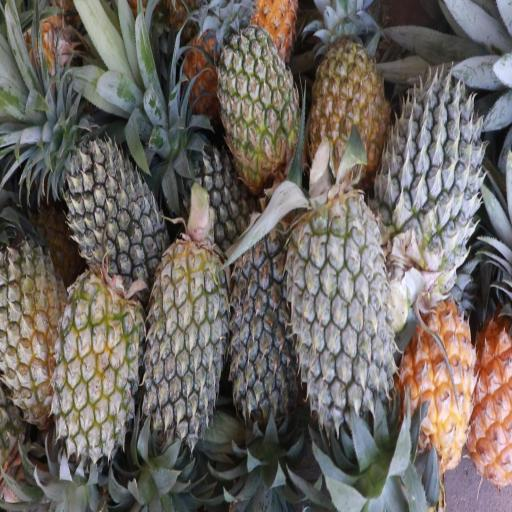------------------------------: (57, 272, 142, 459), (217, 20, 299, 186), (0, 234, 66, 426)
Pineapple - v8 v1: (396, 303, 477, 473), (308, 36, 388, 188)
